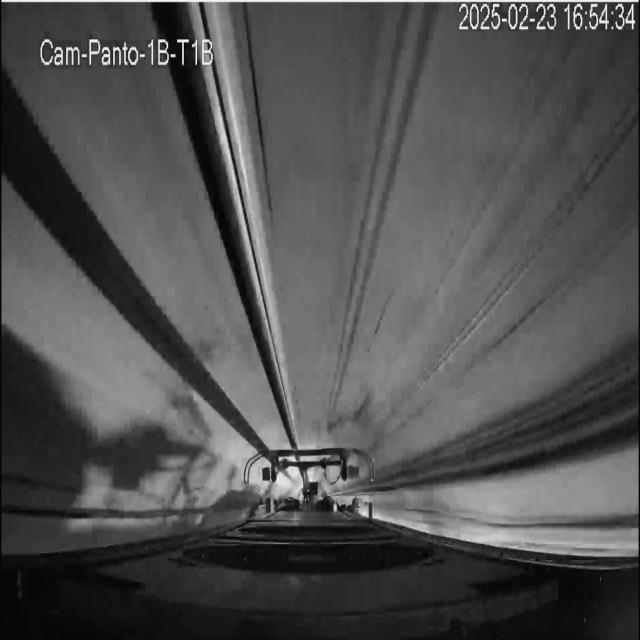Camera Stamp: (38, 31, 220, 70)
Date Stamp: (458, 3, 635, 33)
